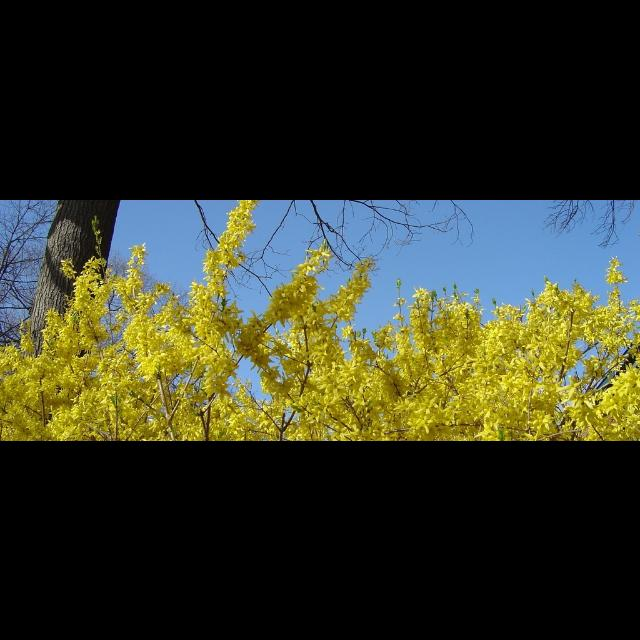Flower: (1, 199, 640, 439), (558, 376, 582, 398)
